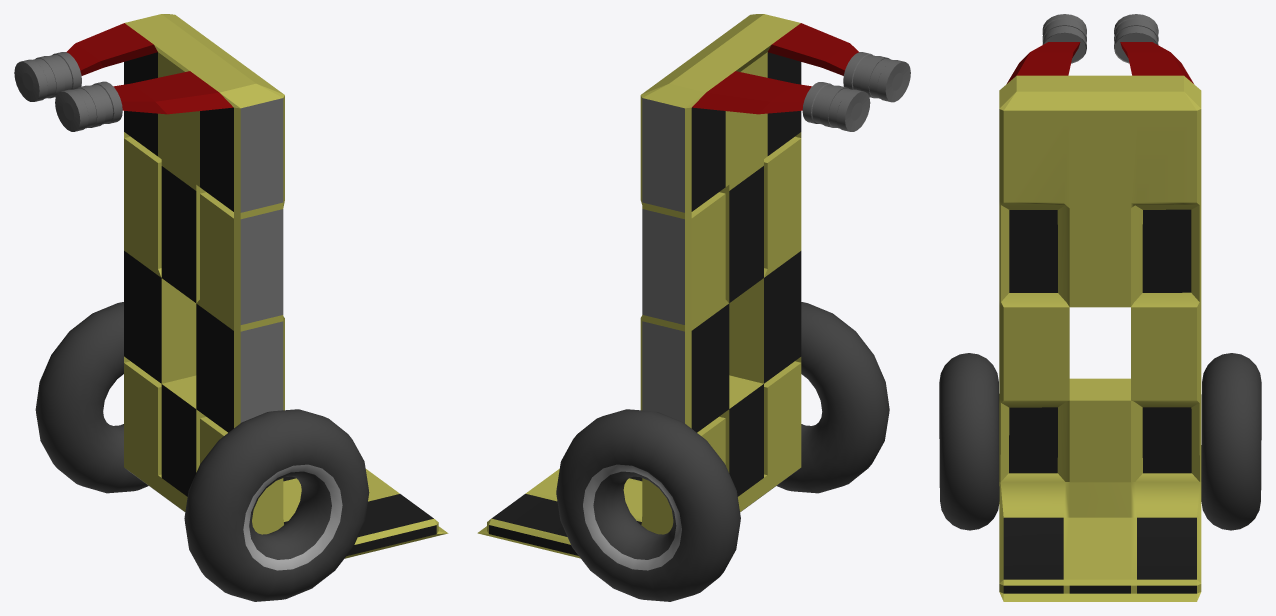
The model's file is moving cart.fbx.
3 views of the same model, side by side, from view 1: azimuth 30°, elevation 25°; view 2: azimuth 150°, elevation 25°; view 3: azimuth 270°, elevation 25° (orthographic). The views are drawn at different scales.
Parts seen in each view (by area): view 1: pCube1, pTorus2, pTorus1, pCylinder2, pCylinder1; view 2: pCube1, pTorus1, pTorus2, pCylinder1, pCylinder2; view 3: pCube1, pTorus1, pTorus2, pCylinder2, pCylinder1.
Part boxes in pixels (left/top/right/bottom): pCube1: left=66, top=14, right=448, bottom=558; pTorus2: left=184, top=409, right=369, bottom=601; pTorus1: left=35, top=302, right=148, bottom=493; pCylinder2: left=55, top=81, right=122, bottom=131; pCylinder1: left=14, top=52, right=81, bottom=101; pCube1: left=477, top=14, right=858, bottom=558; pTorus1: left=556, top=409, right=740, bottom=601; pTorus2: left=777, top=302, right=889, bottom=493; pCylinder1: left=802, top=82, right=870, bottom=131; pCylinder2: left=843, top=52, right=910, bottom=102; pCube1: left=999, top=42, right=1201, bottom=601; pTorus1: left=1201, top=353, right=1261, bottom=530; pTorus2: left=939, top=353, right=999, bottom=530; pCylinder2: left=1042, top=14, right=1086, bottom=63; pCylinder1: left=1114, top=14, right=1158, bottom=63.
Size of the model in its own units: 2.39 by 3.31 by 2.18.
